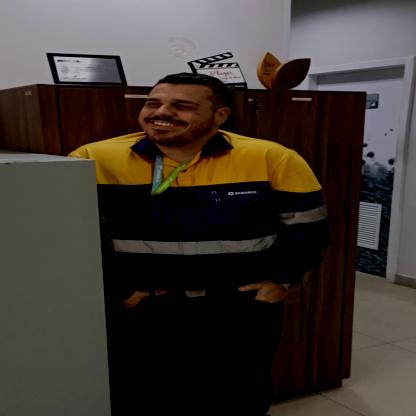Operacional: (60, 136, 335, 298)
